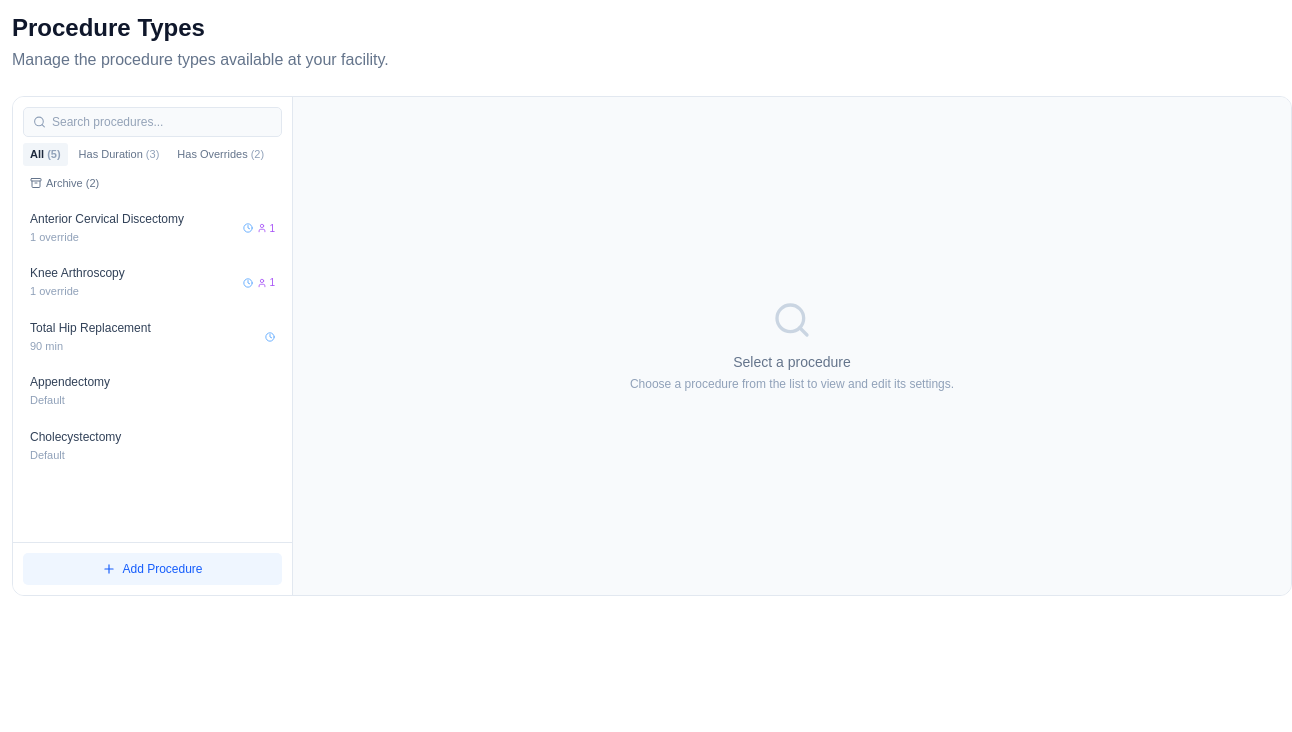
it: ProceduresSettingsPage › [FILTER COMPOSITION] search + has_duration tab both active — only matching procedures shown
Note: Activate Has Duration tab first
Click the button "Has Duration (3)" at (119, 154), box x1=72 y1=143 x2=166 y2=166
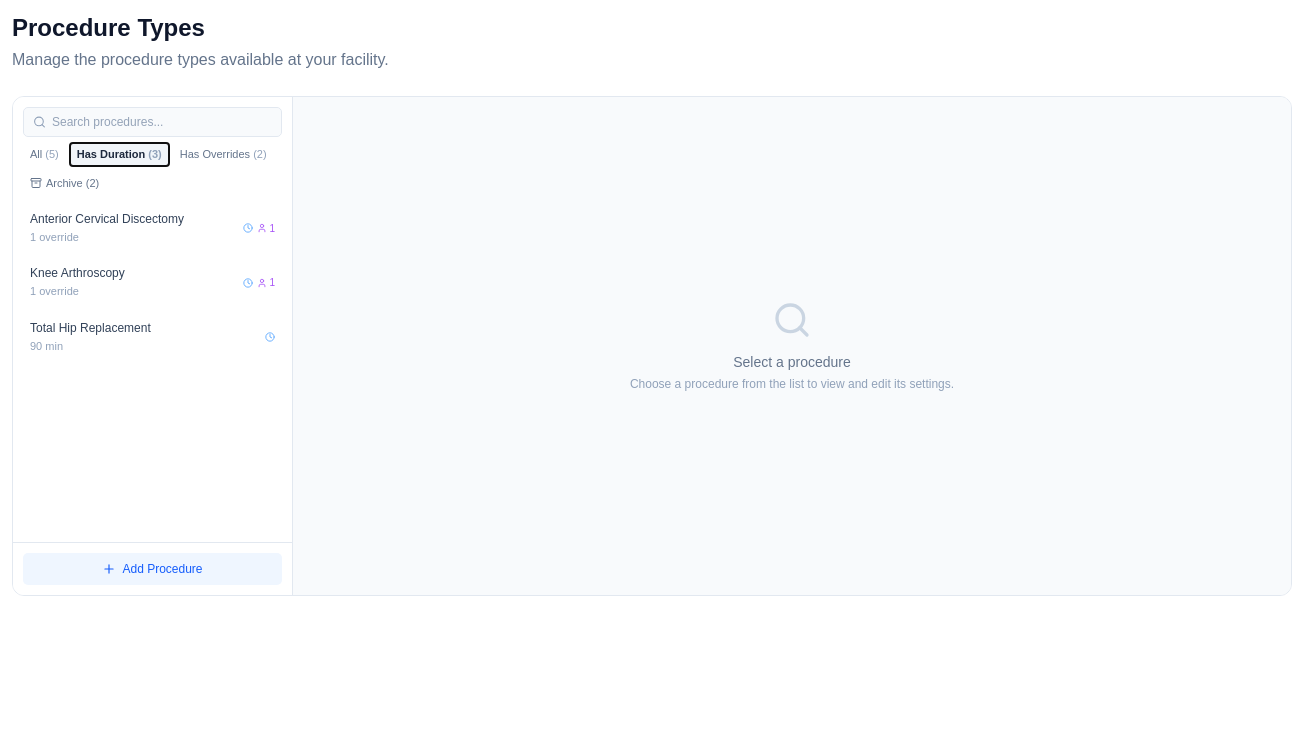
Note: Then type a search that narrows to just "Knee"
Type "Knee" into the field with placeholder "Search procedures..." at (152, 122), box x1=23 y1=107 x2=282 y2=137
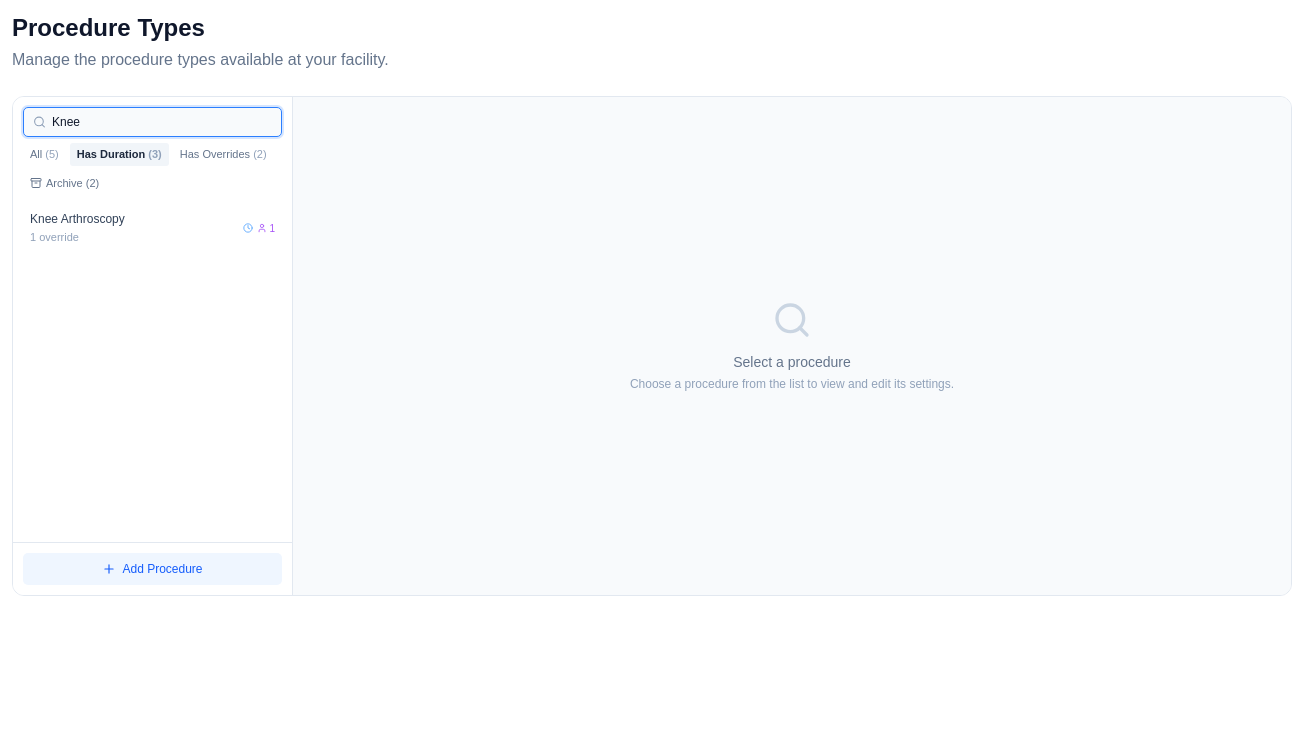
Expected: the text "Knee Arthroscopy" is shown, x1=30 y1=212 x2=125 y2=226
Now the text "Anterior Cervical Discectomy" is gone
Now the text "Total Hip Replacement" is gone
